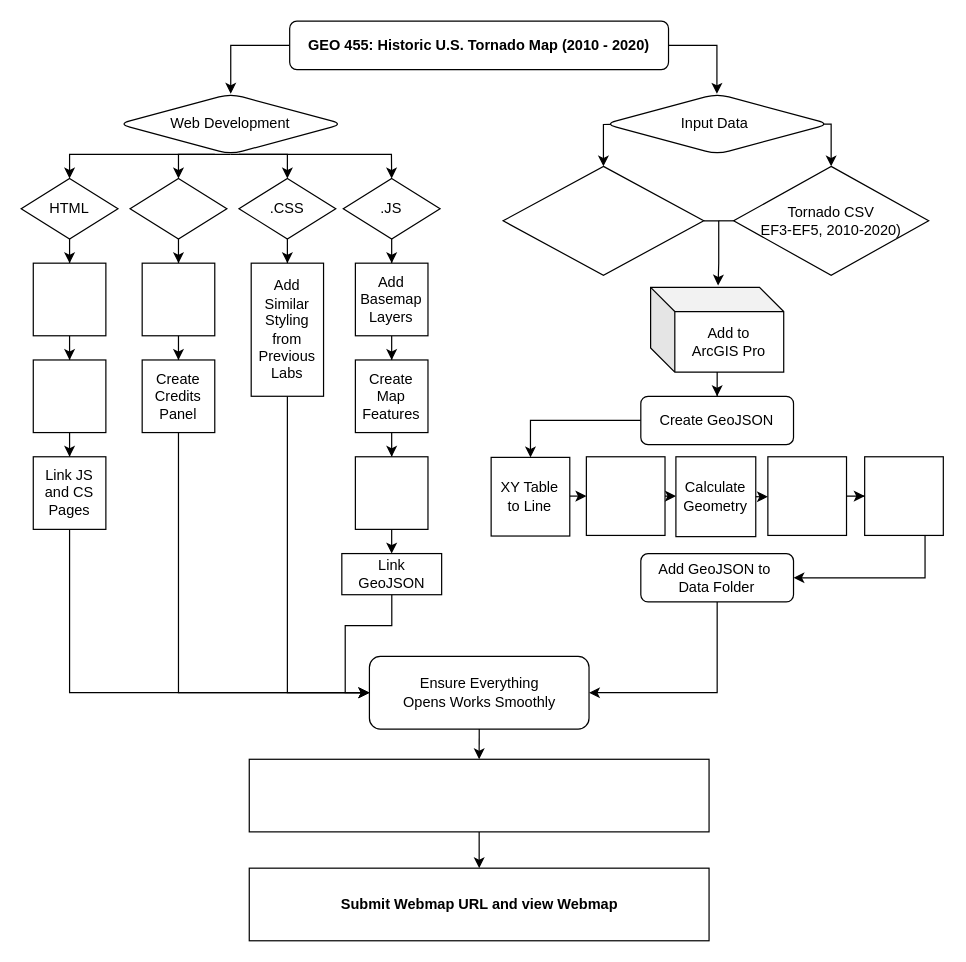
This 966x962 diagram has some shape labels left out. Here are the shapes that lost their labels. From the top down, the centre of each, then its label:
the point at 178,208: HTML About
the point at 603,220: NOAA Storm Events Database
the point at 69,299: Add in Link / Scrips
the point at 178,299: Create About Panel
the point at 69,396: Create Page Layout
the point at 391,492: Create Layer Variables
the point at 625,495: Project to Albers Equal Area Conic
the point at 807,495: Reproject to WGS 1984
the point at 903,495: Add Join and Export as GeoJSON
the point at 478,795: Upload All Files to GitHub Repository
